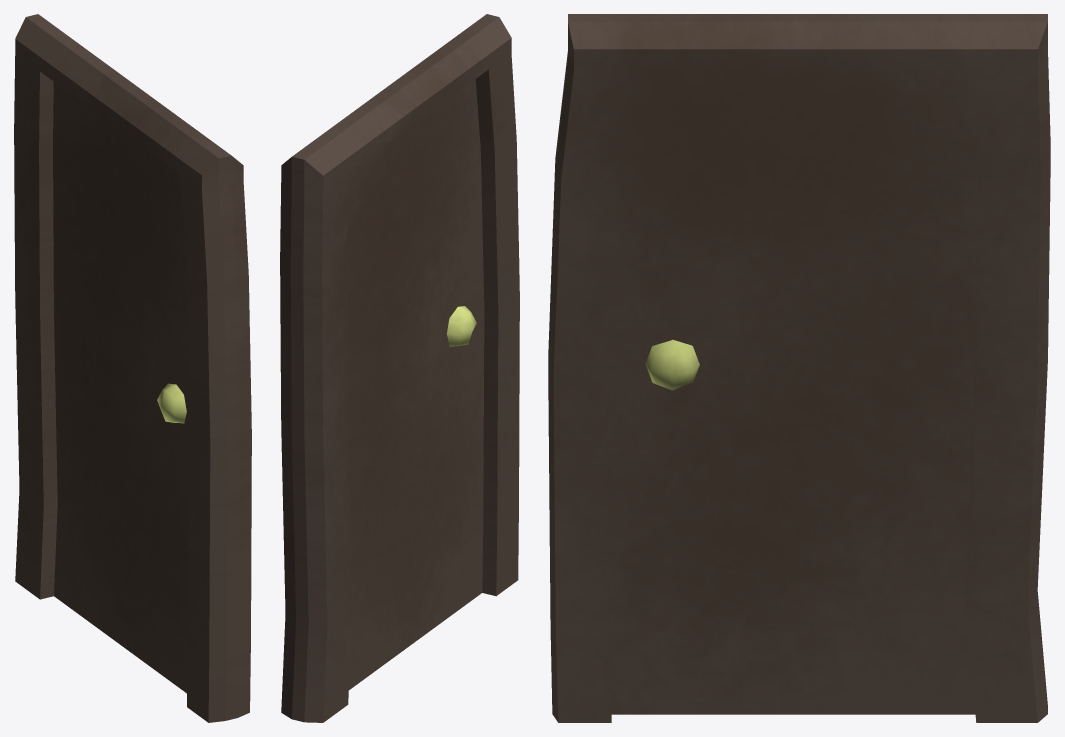
Rendered from bedroom door.fbx.
3 renders of one model, left to right at view 1: azimuth 30°, elevation 25°; view 2: azimuth 150°, elevation 25°; view 3: azimuth 270°, elevation 25°, orthographic. The views are drawn at different scales.
Visible parts, largest first — view 1: polySurface474; view 2: polySurface474; view 3: polySurface474.
Part boxes in pixels (left/top/right/bottom): polySurface474: left=14, top=14, right=251, bottom=722; polySurface474: left=280, top=14, right=519, bottom=722; polySurface474: left=548, top=14, right=1050, bottom=722.
Bounding box in the file's own units: 0.1873 × 2.2 × 1.45.
Materials: 1 (1 with a texture image).
